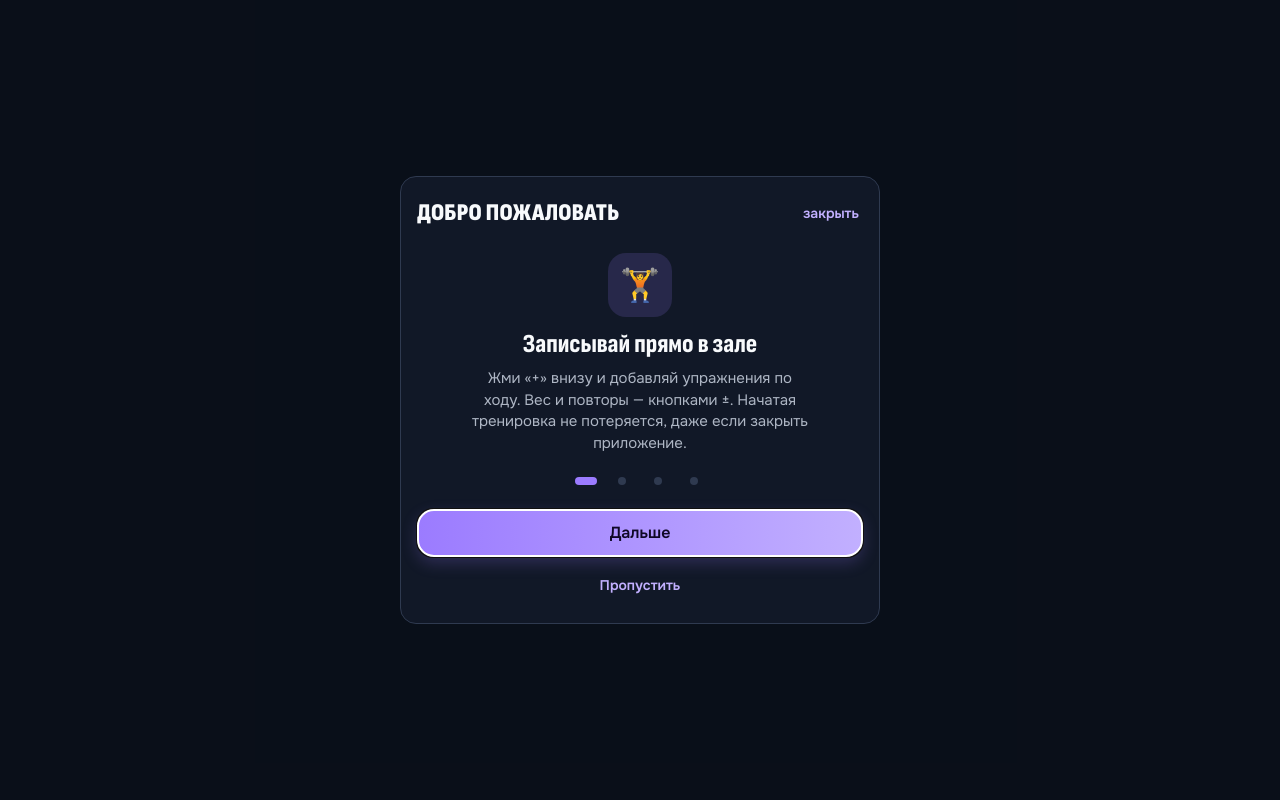
WelcomeSheet › свайп влево — вперед, вправо — назад
Press the mouse on the text "Записывай прямо в зале": (640, 353) [472,253,808,453]
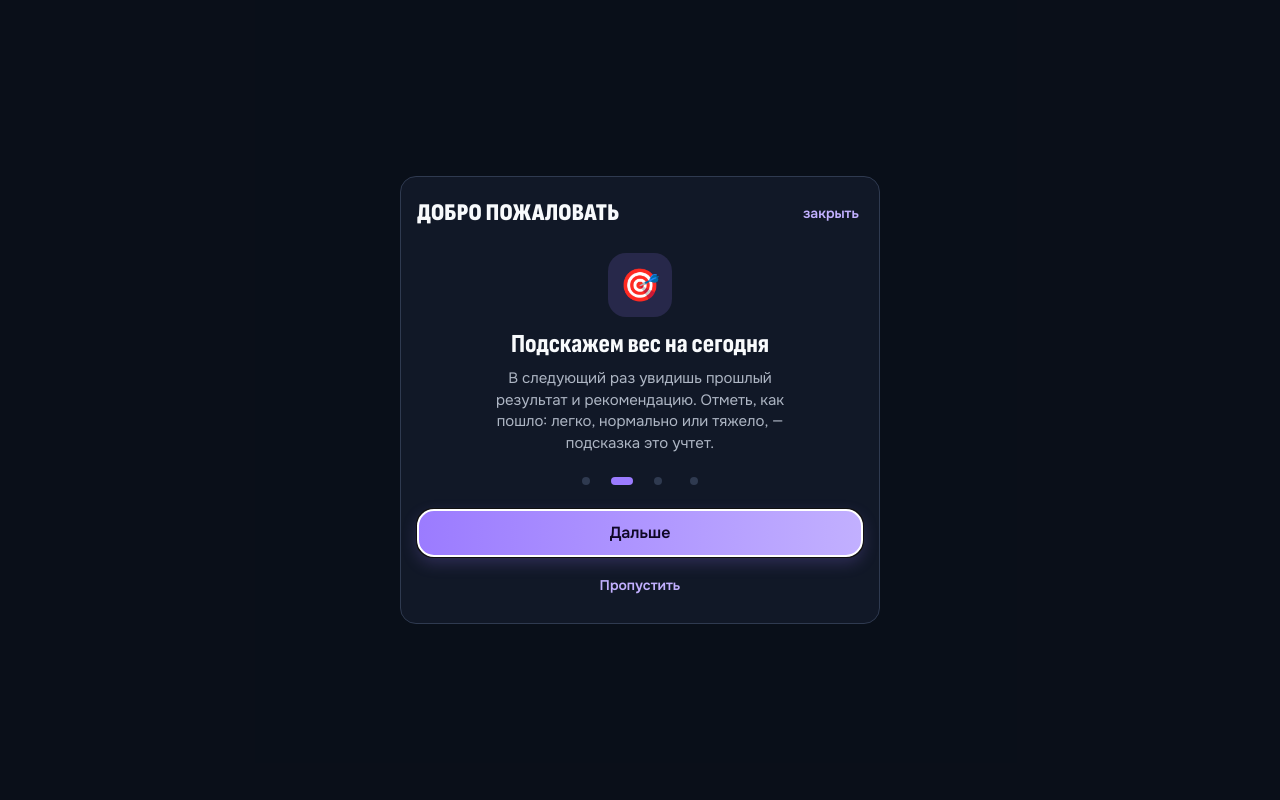
Expected: the text "Подскажем вес на сегодня" is shown, [511,331,769,360]
Press the mouse on the text "Подскажем вес на сегодня": (640, 353) [496,253,784,453]
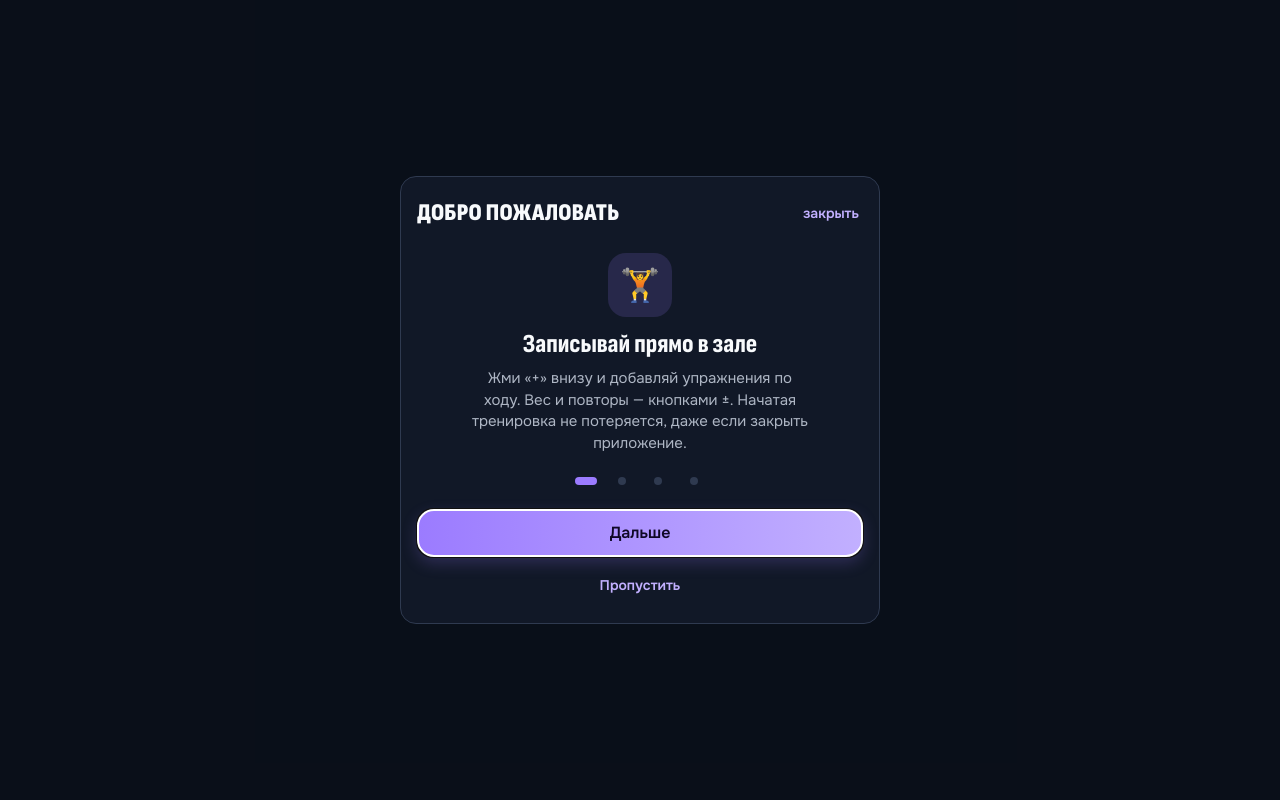
Expected: the text "Записывай прямо в зале" is shown, [523,331,757,360]
